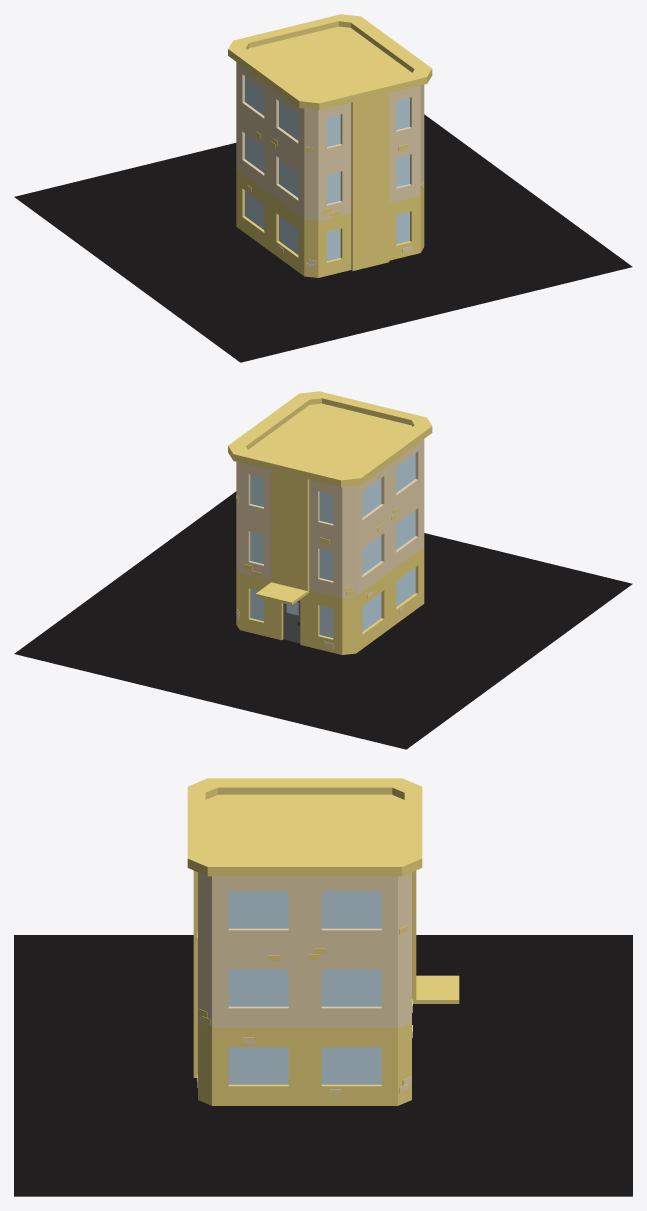
Rendered from Tile 14_Combined.fbx.
The picture shows the model from 3 angles, top to bottom: view 1: azimuth 30°, elevation 25°; view 2: azimuth 150°, elevation 25°; view 3: azimuth 270°, elevation 25°; orthographic projection. The views are drawn at different scales.
Visible parts, largest first — view 1: MeshBaker_Cluster_0_mesh_mesh; view 2: MeshBaker_Cluster_0_mesh_mesh; view 3: MeshBaker_Cluster_0_mesh_mesh.
Boxes of the visible parts, box(x1,y1,x2,y2) form: MeshBaker_Cluster_0_mesh_mesh: box(14, 14, 632, 362); MeshBaker_Cluster_0_mesh_mesh: box(14, 391, 632, 749); MeshBaker_Cluster_0_mesh_mesh: box(14, 778, 632, 1196).
Size of the model in its own units: 3000 by 1301 by 3000.
